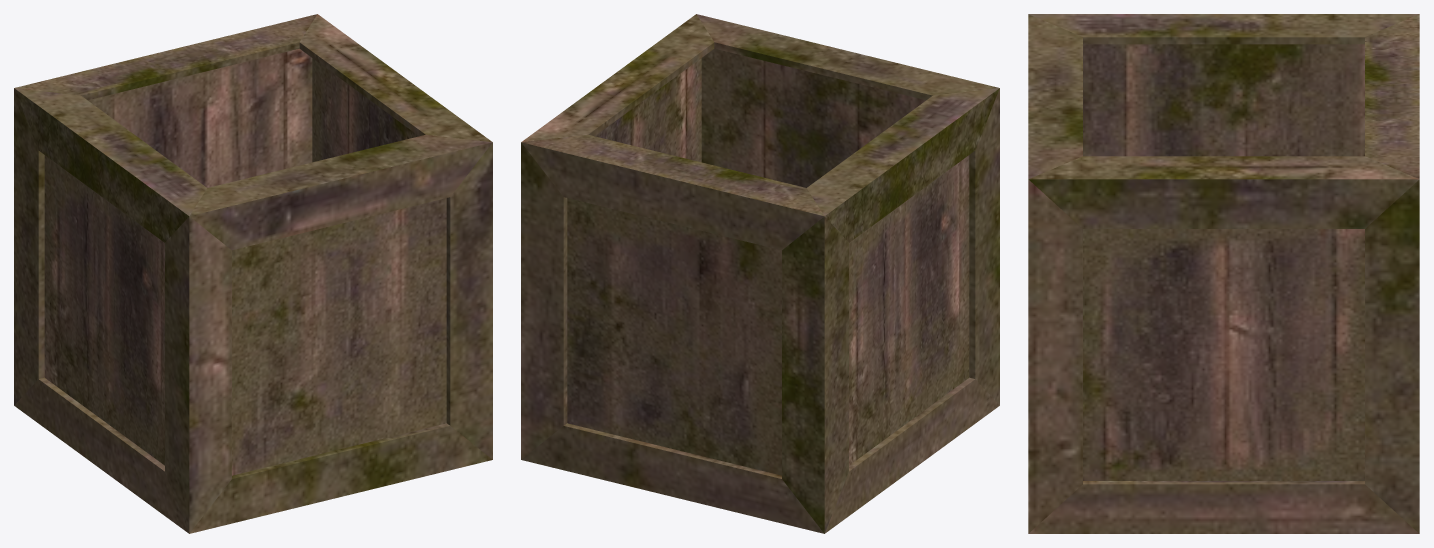
Rendered from crate_mossy_open.glb.
3 renders of one model, left to right at view 1: azimuth 30°, elevation 25°; view 2: azimuth 150°, elevation 25°; view 3: azimuth 270°, elevation 25°, orthographic. The views are drawn at different scales.
Visible parts, largest first — view 1: crate_mossy_open; view 2: crate_mossy_open; view 3: crate_mossy_open.
Part boxes in pixels (x1,y1,x2,y2): crate_mossy_open: (14, 14, 492, 533); crate_mossy_open: (521, 14, 999, 533); crate_mossy_open: (1028, 14, 1419, 533).
Bounding box in the file's own units: 0.635 × 0.635 × 0.635.
1 material, 1 textured.
